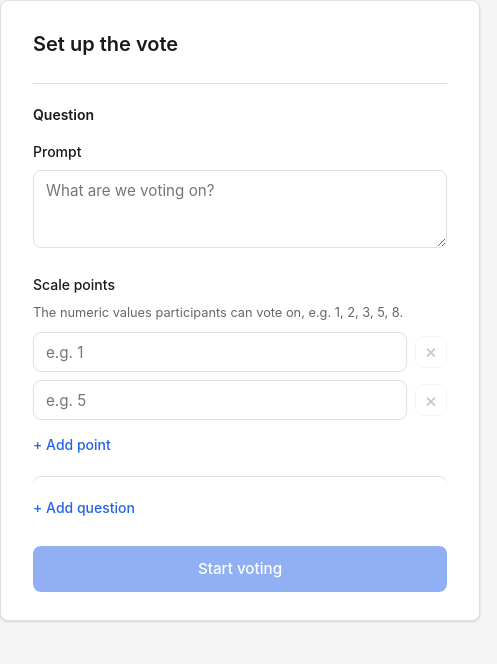
it: PlanningForm › shows a validation error and keeps the button disabled when options are duplicates
Type "Task size" into the text box with placeholder "What are we voting on?" at (240, 209), box x1=33 y1=170 x2=447 y2=248
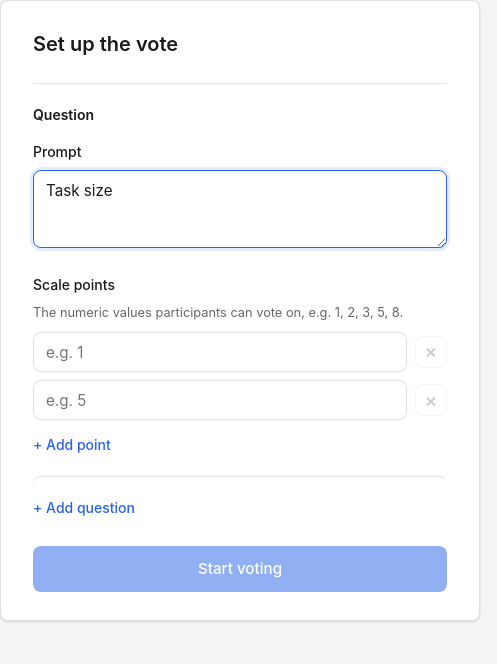
Type "3" into the number field with placeholder "e.g. 1" at (220, 352), box x1=33 y1=332 x2=407 y2=372
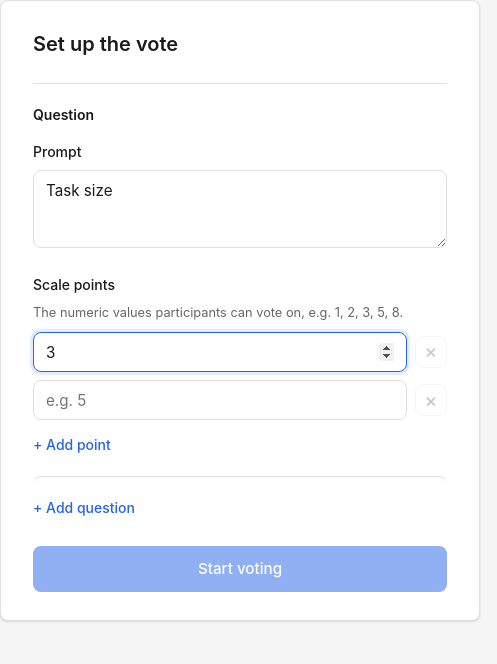
Type "3" into the number field with placeholder "e.g. 5" at (220, 400), box x1=33 y1=380 x2=407 y2=420
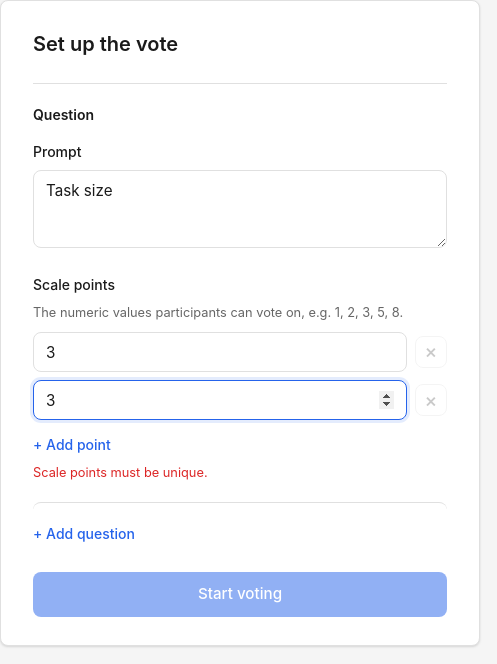
Check: the button "Start voting" is disabled, box x1=33 y1=572 x2=447 y2=617
Check: the text "Scale points must be unique." is shown, box x1=33 y1=465 x2=208 y2=480
